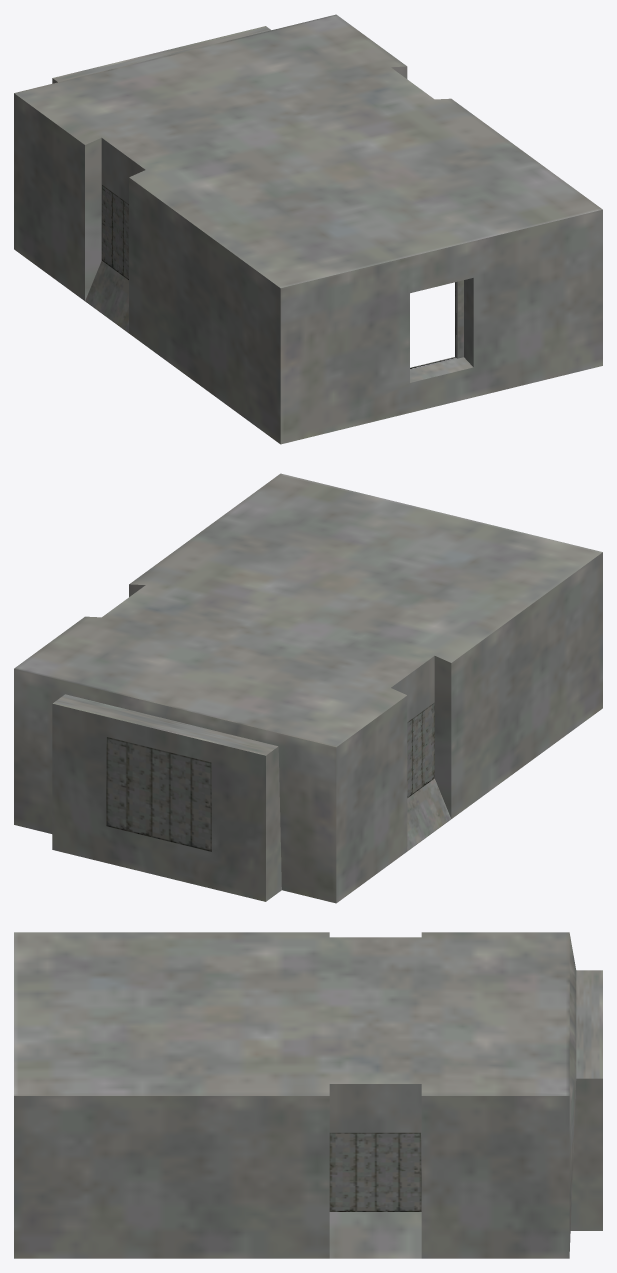
The model's file is poi_all_impl_bunker_small_outpost_s01_r0_exterior_mesh_r0_l1.fbx.
3 renders of one model, top to bottom at view 1: azimuth 30°, elevation 25°; view 2: azimuth 150°, elevation 25°; view 3: azimuth 270°, elevation 25°, orthographic. The views are drawn at different scales.
Visible parts, largest first — view 1: mesh_node; view 2: mesh_node; view 3: mesh_node.
Boxes of the visible parts, x1,y1,x2,y2 form: mesh_node: (14, 14, 602, 444); mesh_node: (14, 473, 602, 903); mesh_node: (14, 932, 602, 1258).
Size of the model in its own units: 12.69 by 6 by 19.27.
